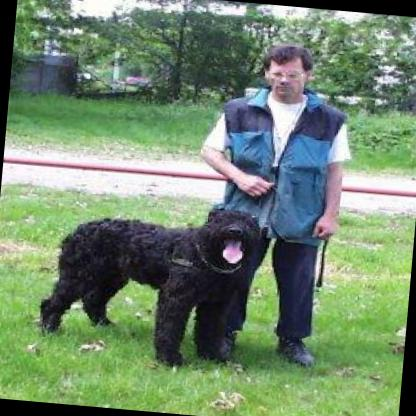Bouvier_des_Flandres: (32, 188, 270, 376)
